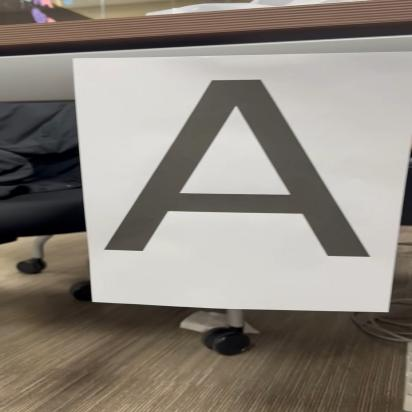seat: (96, 70, 386, 267)
